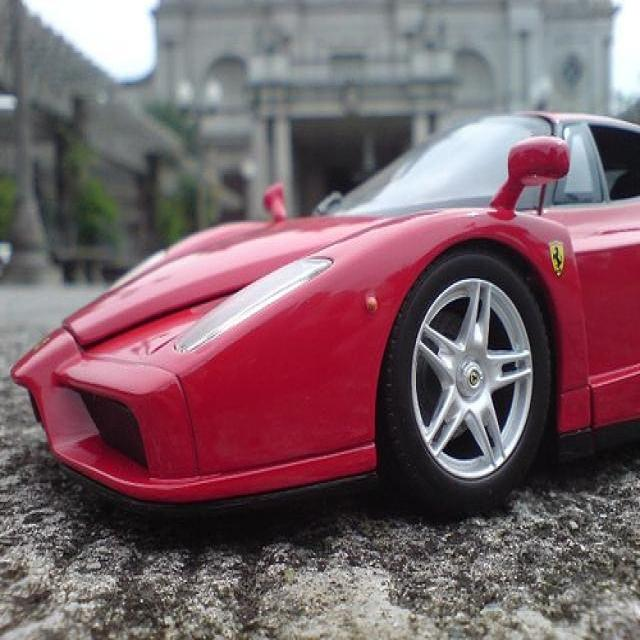car: (14, 101, 639, 522)
